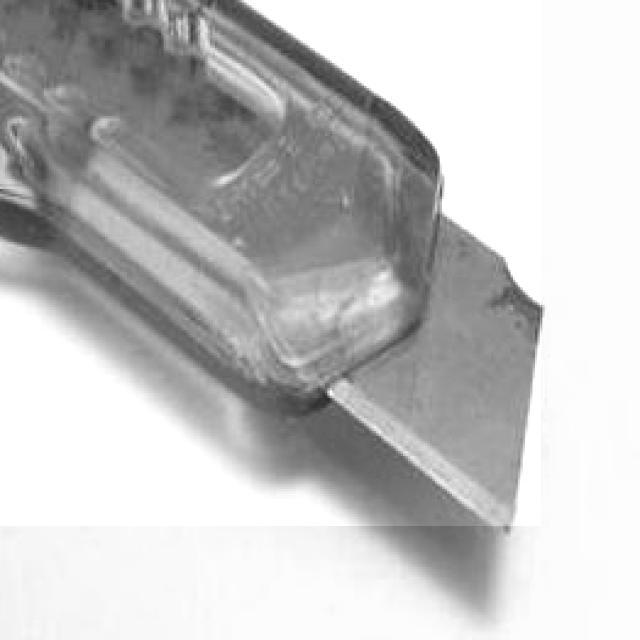estilete: (0, 0, 541, 526)
